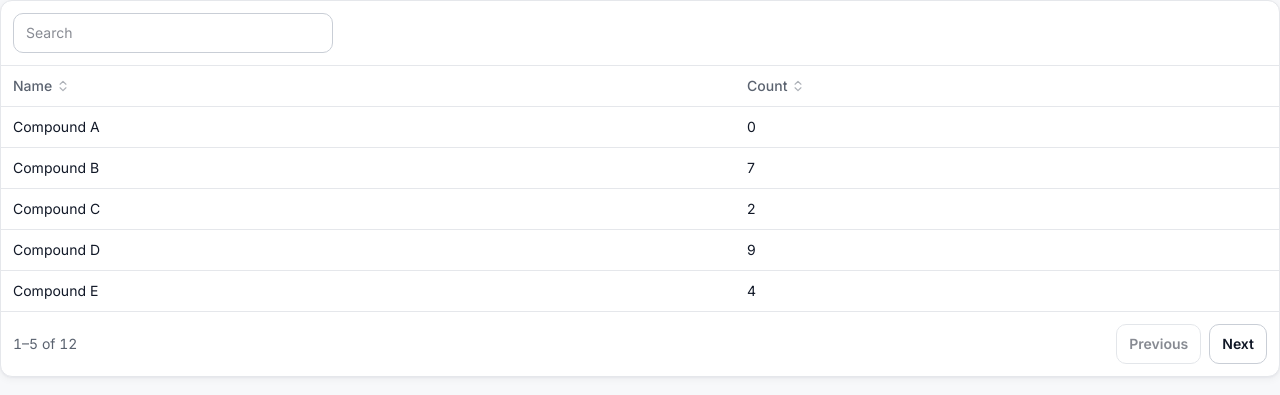
DataTable › paginates
Expected: the number of rows is 6, [1,66,1279,106]; [1,106,1279,148]; [1,148,1279,188]; [1,188,1279,230]; [1,230,1279,270]; [1,270,1279,311]
Expected: the text "1–5 of 12" is shown, [13,334,77,354]
Click the button "Next": (1238, 344) [1209,324,1267,364]
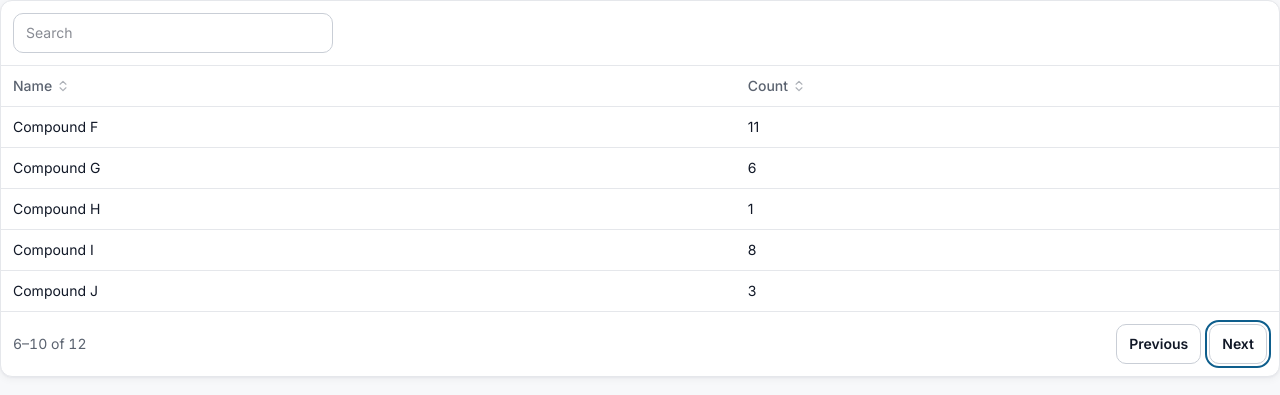
Expected: the cell "Compound F" is shown, [1,106,736,148]
